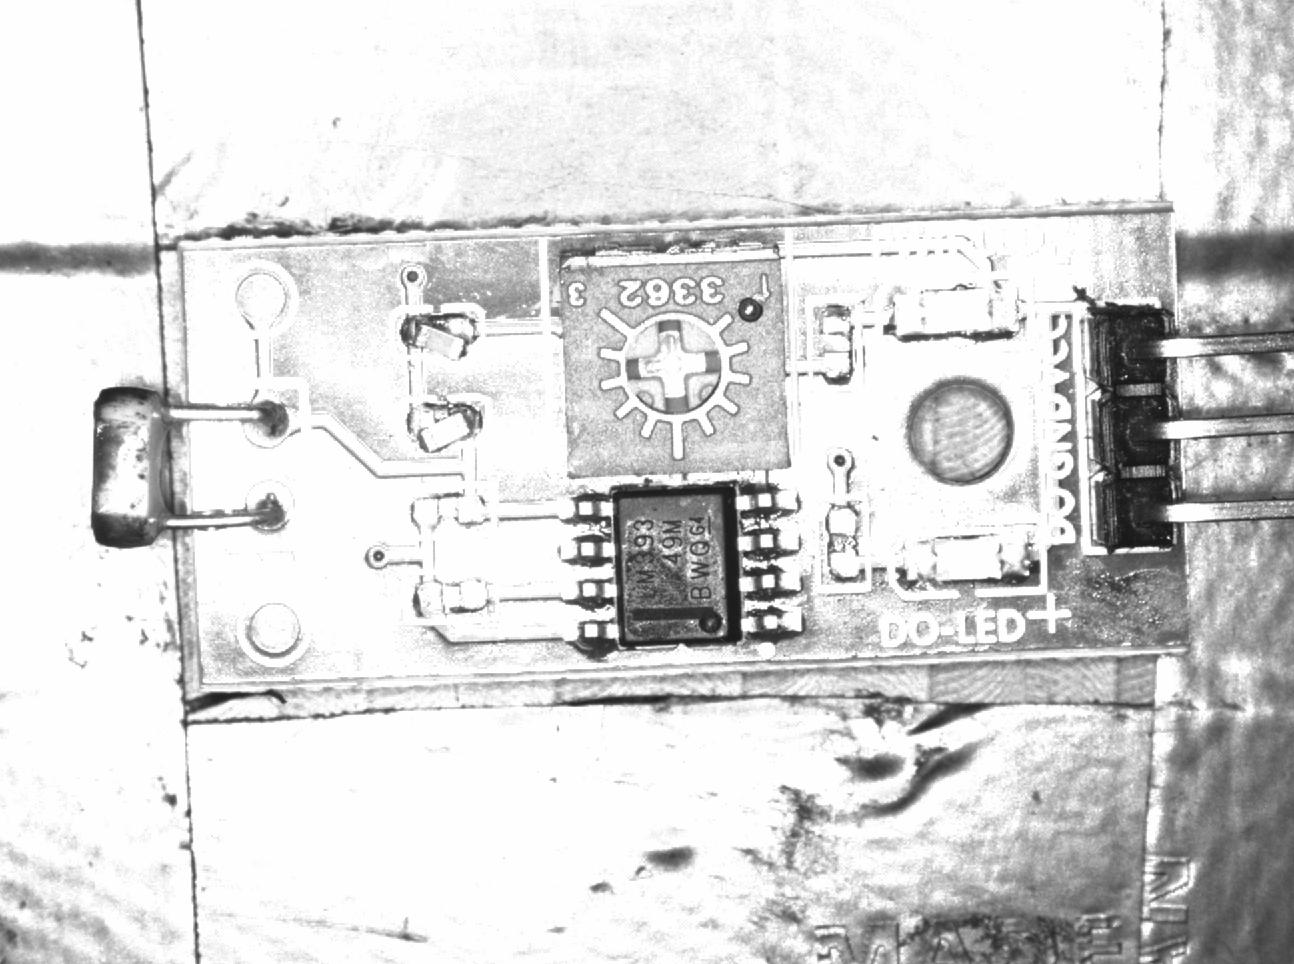lifted: (396, 397, 489, 455), (397, 309, 487, 361)
miss: (404, 569, 499, 624), (807, 300, 865, 390), (403, 484, 495, 538), (819, 496, 869, 594)
